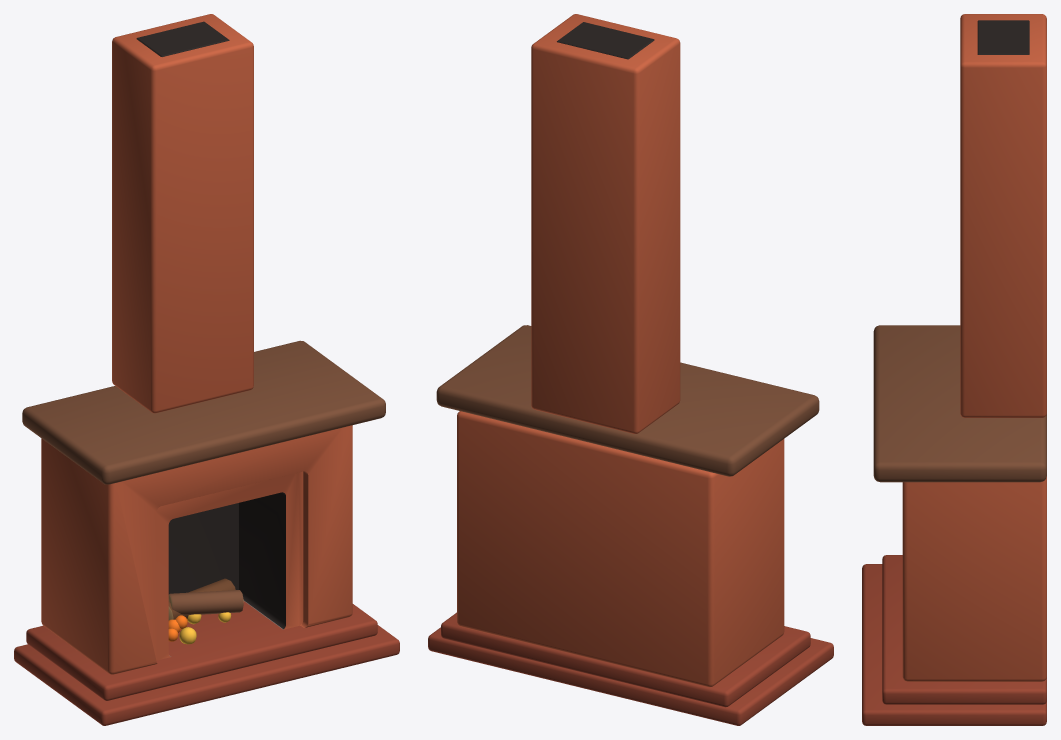
The model's file is lareira_simples_chamine.glb.
3 views of the same model, side by side, from view 1: azimuth 30°, elevation 25°; view 2: azimuth 150°, elevation 25°; view 3: azimuth 270°, elevation 25° (orthographic). The views are drawn at different scales.
Parts seen in each view (by area): view 1: lareira_simples_chamine; view 2: lareira_simples_chamine; view 3: lareira_simples_chamine.
Part boxes in pixels (left/top/right/bottom): lareira_simples_chamine: left=14, top=14, right=399, bottom=725; lareira_simples_chamine: left=428, top=14, right=833, bottom=725; lareira_simples_chamine: left=862, top=14, right=1046, bottom=725.
Bounding box in the file's own units: 1.22 × 2.35 × 0.64.
Materials: 2 (1 with a texture image).
